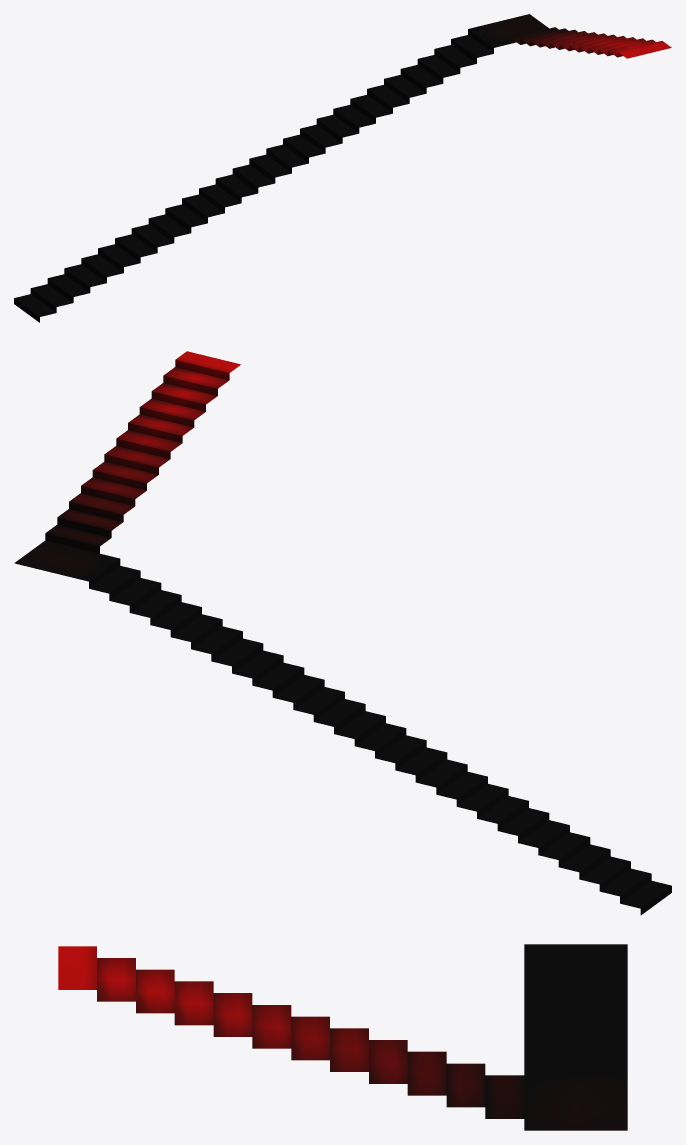
File: mountain_base_stairs.obj
The picture shows the model from 3 angles, top to bottom: view 1: azimuth 30°, elevation 25°; view 2: azimuth 150°, elevation 25°; view 3: azimuth 270°, elevation 25°; orthographic projection. The views are drawn at different scales.
Visible parts, largest first — view 1: StairMesh; view 2: StairMesh; view 3: StairMesh.
Part boxes in pixels (box(x1,y1,x2,y2)): StairMesh: box(14, 14, 671, 322); StairMesh: box(14, 351, 671, 915); StairMesh: box(58, 944, 627, 1130).
Size of the model in its own units: 23 by 10 by 11.
